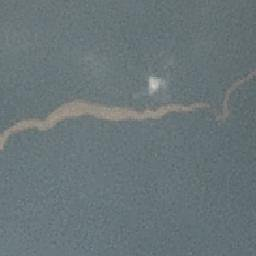debris: (113, 102, 205, 121), (52, 101, 106, 120), (11, 118, 54, 135), (217, 85, 231, 124), (234, 71, 256, 88), (1, 120, 9, 155)
